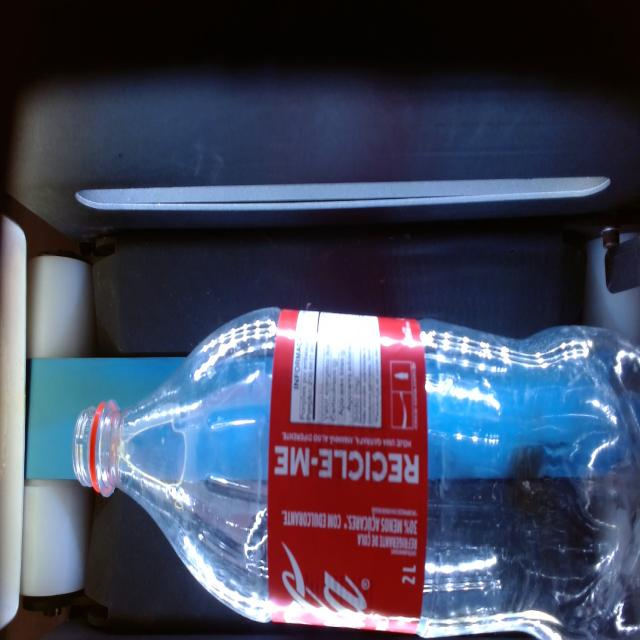bottom: (418, 320, 640, 638)
label: (268, 309, 428, 633)
neck: (72, 309, 279, 622)
